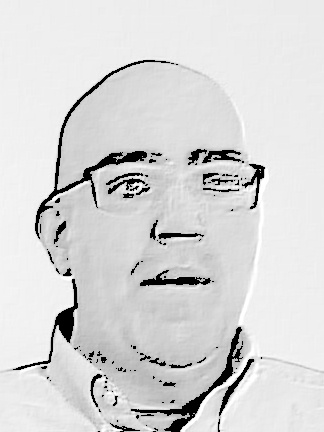nose_M_C: (149, 181, 206, 263)
